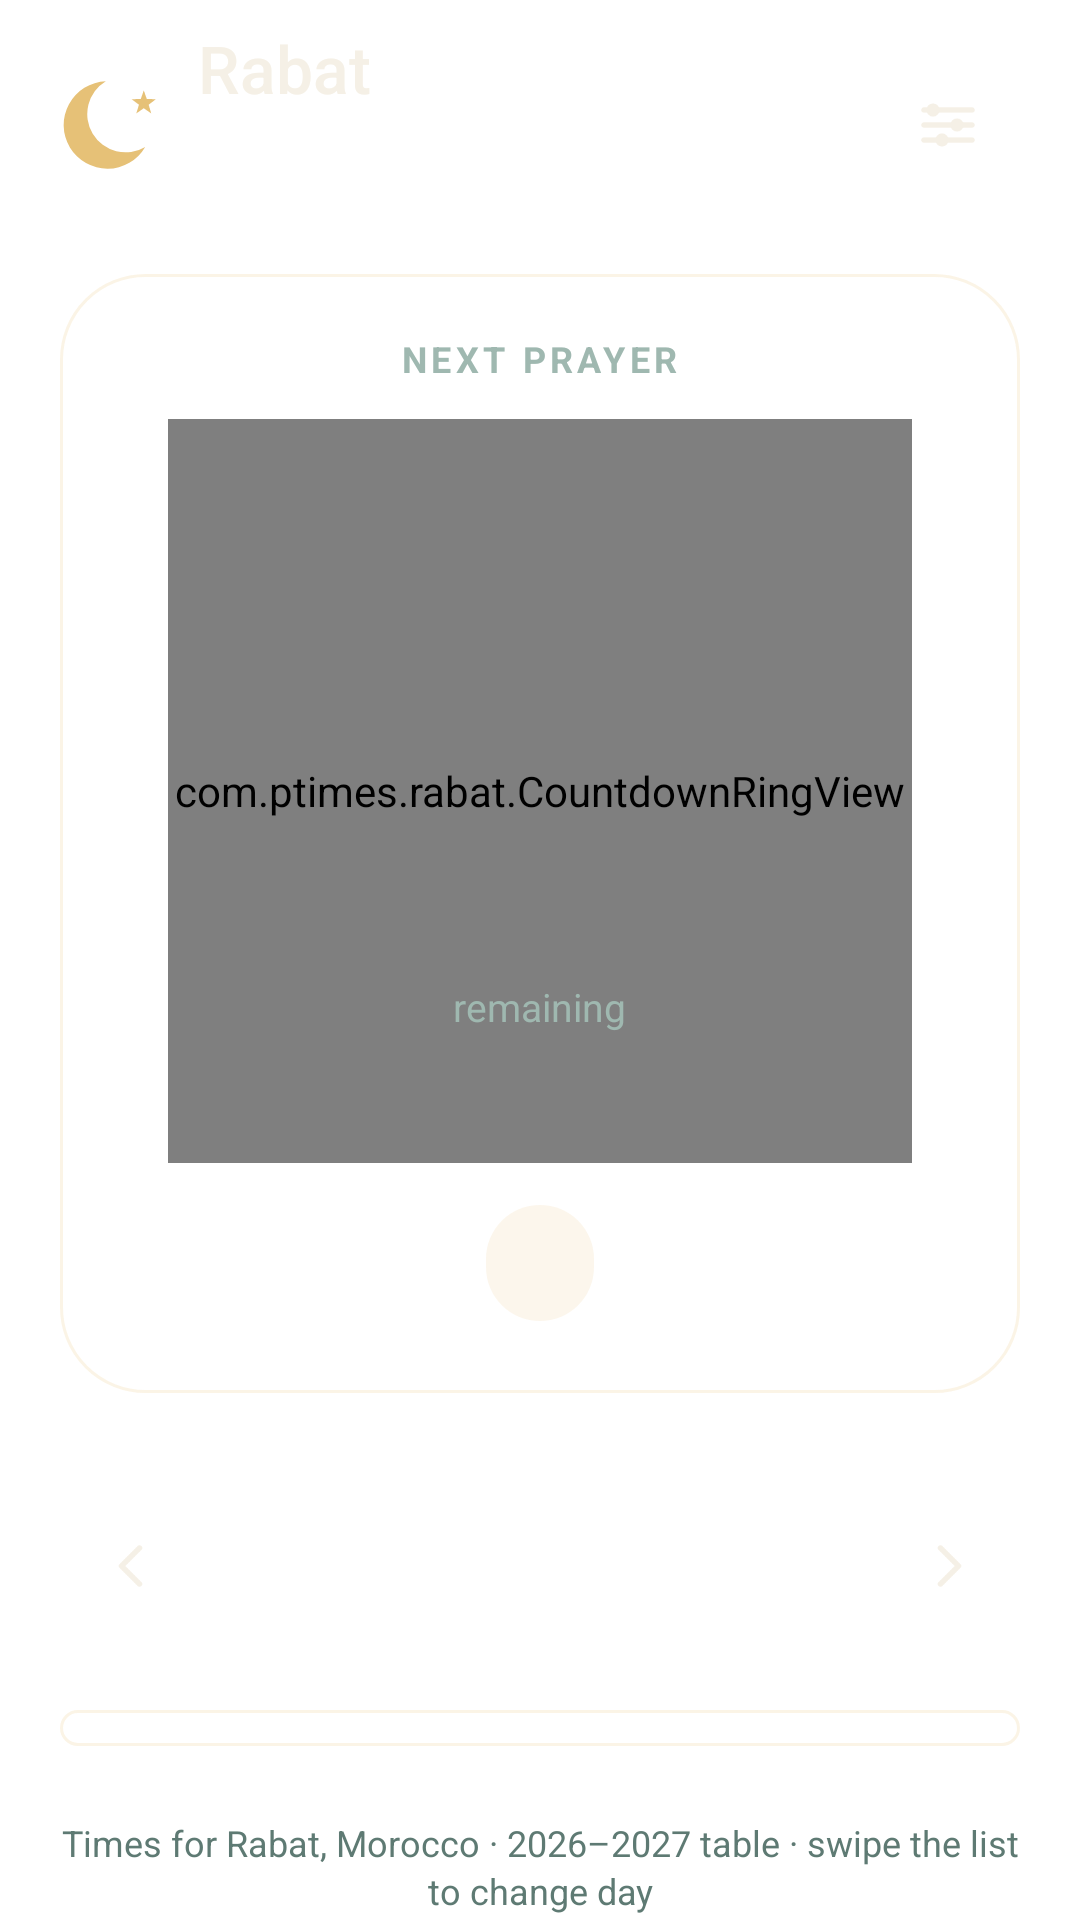

Locate icon controls on the screen. Image size 1080x1920, boxes as box=[x1, y1, x2, y2].
crescent: box=[63, 81, 156, 169]
Next day: box=[938, 1546, 960, 1586]
Previous day: box=[120, 1546, 142, 1586]
Settings: box=[922, 104, 974, 146]
